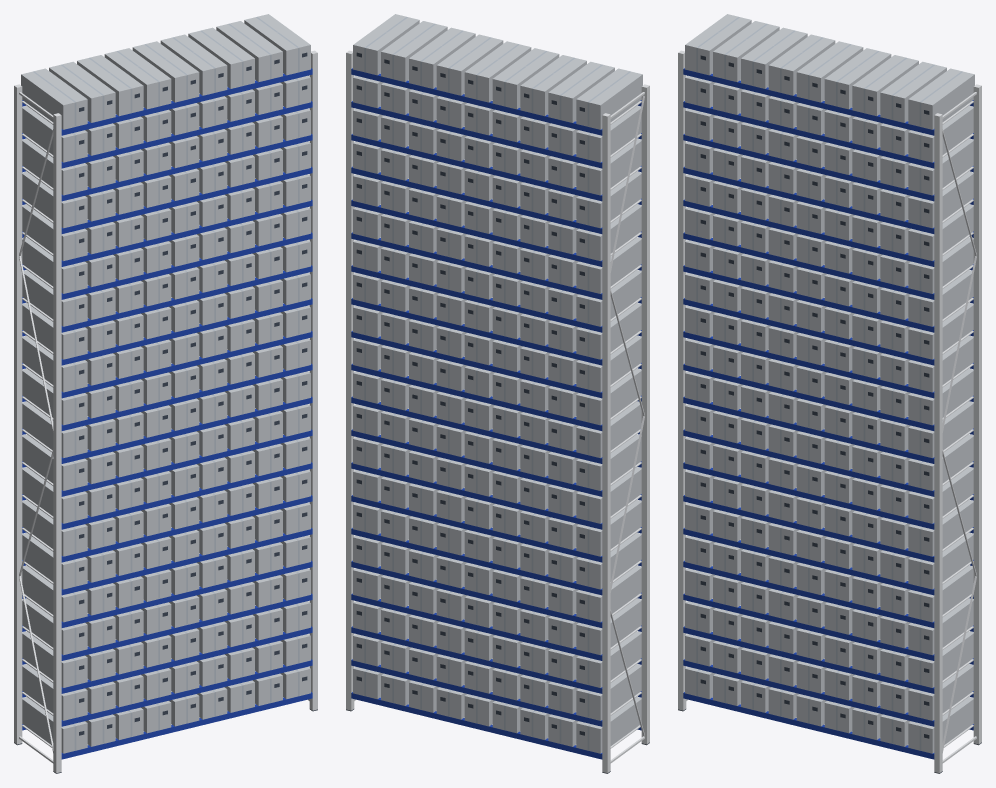
The model's file is SM_MPR_CADRack_F20_W144_Standard_LOD1.fbx.
The picture shows the model from 3 angles, left to right: view 1: azimuth 30°, elevation 25°; view 2: azimuth 150°, elevation 25°; view 3: azimuth 330°, elevation 25°; orthographic projection.
Parts seen in each view (by area): view 1: SM_MPR_CADRack_F20_W144_Standard_LOD1; view 2: SM_MPR_CADRack_F20_W144_Standard_LOD1; view 3: SM_MPR_CADRack_F20_W144_Standard_LOD1.
Part boxes in pixels (x1,y1,x2,y2): SM_MPR_CADRack_F20_W144_Standard_LOD1: (14, 14, 317, 773); SM_MPR_CADRack_F20_W144_Standard_LOD1: (346, 14, 649, 773); SM_MPR_CADRack_F20_W144_Standard_LOD1: (678, 14, 981, 773).
Bounding box in the file's own units: 381 × 107 × 929.
